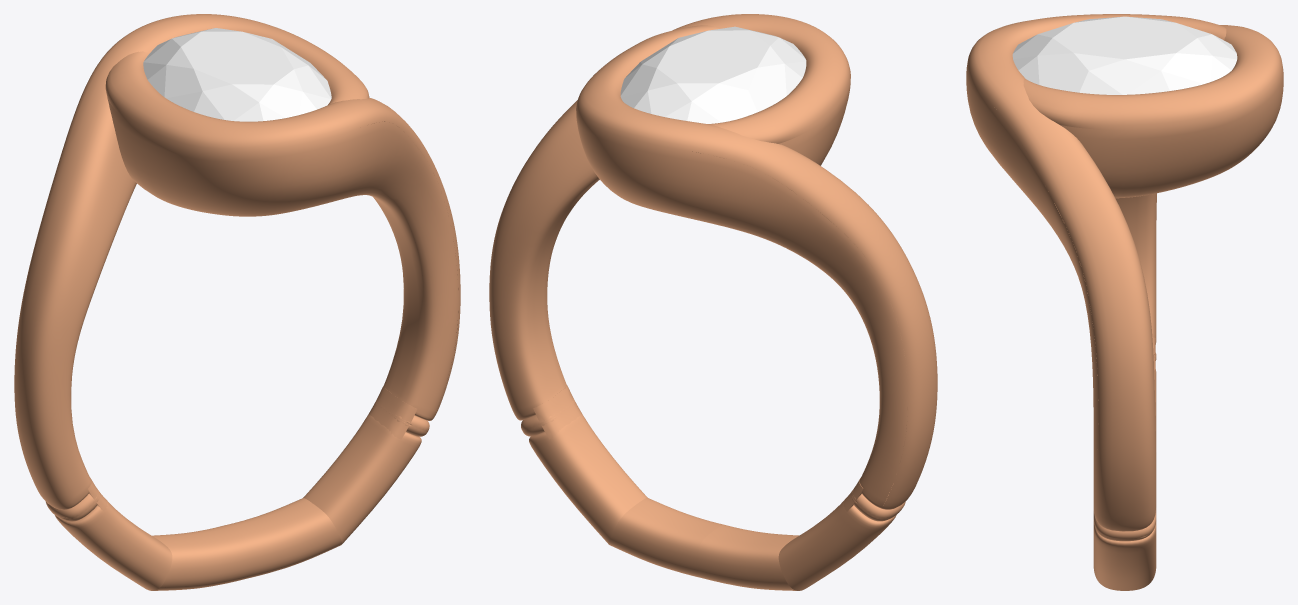
The picture shows the model from 3 angles, left to right: view 1: azimuth 30°, elevation 25°; view 2: azimuth 150°, elevation 25°; view 3: azimuth 270°, elevation 25°; orthographic projection.
Parts seen in each view (by area): view 1: A144_2ct_Oval_NS_Bezel3dm, CenterStone_(7*10*455mm)Oval, JewelCAD_1, JewelCAD_2; view 2: A144_2ct_Oval_NS_Bezel3dm, CenterStone_(7*10*455mm)Oval, JewelCAD_1, JewelCAD_2; view 3: A144_2ct_Oval_NS_Bezel3dm, CenterStone_(7*10*455mm)Oval, JewelCAD.
Boxes of the visible parts, left/top/right/bottom form: A144_2ct_Oval_NS_Bezel3dm: left=14, top=14, right=460, bottom=590; CenterStone_(7*10*455mm)Oval: left=143, top=28, right=331, bottom=121; JewelCAD_1: left=368, top=386, right=417, bottom=439; JewelCAD_2: left=45, top=490, right=100, bottom=521; A144_2ct_Oval_NS_Bezel3dm: left=489, top=14, right=937, bottom=590; CenterStone_(7*10*455mm)Oval: left=620, top=26, right=806, bottom=123; JewelCAD_1: left=533, top=385, right=583, bottom=439; JewelCAD_2: left=851, top=489, right=905, bottom=521; A144_2ct_Oval_NS_Bezel3dm: left=966, top=14, right=1283, bottom=590; CenterStone_(7*10*455mm)Oval: left=1012, top=16, right=1237, bottom=94; JewelCAD: left=1093, top=510, right=1156, bottom=541.
Size of the model in its own units: 2.44 by 2.77 by 1.54.
